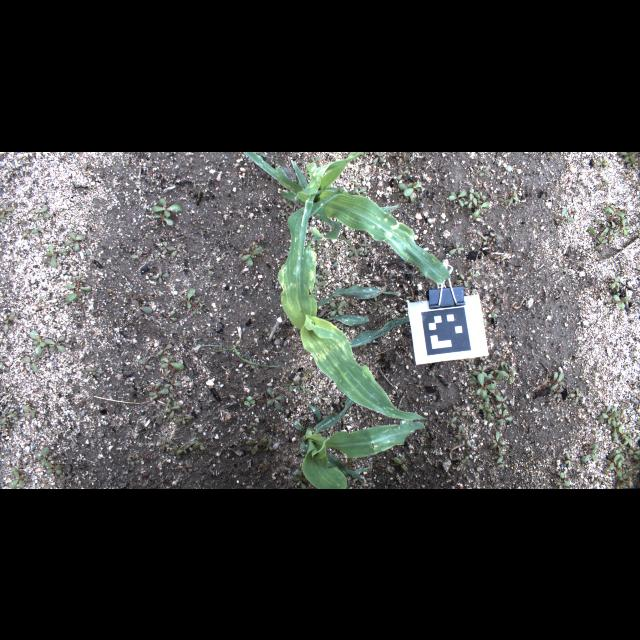crop: (277, 186, 429, 420), (244, 152, 451, 284), (292, 382, 426, 488)
weed: (194, 338, 278, 367), (152, 196, 182, 224), (29, 330, 49, 358), (45, 245, 67, 268), (66, 284, 92, 302), (398, 178, 424, 196), (476, 373, 494, 399), (64, 232, 86, 252), (266, 388, 286, 410), (294, 386, 328, 398), (242, 246, 262, 266), (44, 336, 68, 352), (580, 442, 598, 462), (598, 406, 618, 424), (180, 288, 196, 310), (602, 206, 624, 222), (548, 372, 566, 391), (160, 355, 184, 369), (9, 467, 25, 487), (247, 438, 267, 454), (472, 198, 488, 218), (588, 226, 602, 248), (490, 429, 506, 448), (150, 382, 168, 398), (449, 190, 467, 206), (612, 294, 630, 310), (490, 368, 506, 386), (132, 300, 152, 314), (0, 202, 14, 222), (2, 310, 16, 330), (35, 447, 49, 467), (500, 362, 514, 382), (610, 450, 624, 470), (618, 469, 634, 486), (392, 457, 408, 473), (497, 409, 513, 425), (619, 424, 633, 442), (150, 270, 170, 282), (32, 205, 49, 219), (330, 300, 344, 316), (22, 358, 38, 372), (138, 356, 152, 372), (449, 241, 465, 255), (568, 387, 582, 403), (618, 152, 636, 164), (1, 412, 20, 423), (350, 186, 368, 197), (22, 404, 36, 418), (478, 398, 492, 412), (22, 227, 38, 239), (158, 240, 174, 252), (560, 206, 572, 222), (596, 156, 608, 172), (598, 228, 610, 244), (456, 274, 472, 286), (472, 365, 488, 377), (455, 424, 467, 440), (170, 400, 180, 418), (620, 218, 630, 236), (158, 436, 170, 450), (349, 245, 363, 257), (444, 416, 458, 428), (564, 453, 576, 467), (558, 472, 570, 486), (164, 379, 182, 388), (175, 413, 191, 423), (46, 464, 62, 474), (282, 380, 298, 390), (613, 420, 621, 440), (87, 367, 105, 375), (362, 236, 371, 252), (494, 292, 506, 304), (627, 448, 639, 460), (191, 439, 205, 449), (58, 472, 72, 482), (609, 222, 619, 236), (610, 275, 620, 289), (468, 188, 479, 200), (497, 396, 508, 408), (172, 242, 182, 255), (614, 406, 624, 419), (161, 400, 171, 412), (170, 445, 180, 457), (179, 443, 191, 453), (318, 270, 330, 280), (340, 234, 350, 246), (373, 152, 385, 162), (397, 168, 409, 178), (497, 194, 509, 204), (490, 390, 500, 402), (618, 440, 628, 452), (130, 250, 144, 258), (265, 438, 273, 452), (594, 180, 608, 188), (495, 457, 505, 468), (478, 166, 488, 176), (553, 388, 563, 398), (452, 405, 462, 415), (467, 375, 477, 385), (74, 274, 86, 282), (204, 264, 212, 276), (128, 457, 140, 465), (489, 232, 501, 240), (509, 191, 518, 201), (478, 230, 487, 240), (243, 396, 254, 404), (2, 354, 8, 368), (463, 200, 473, 208), (468, 269, 478, 277), (487, 369, 495, 379), (248, 422, 256, 431), (478, 194, 487, 202), (36, 226, 52, 230), (482, 238, 491, 245), (492, 310, 501, 316), (492, 292, 498, 300), (498, 448, 506, 454)
